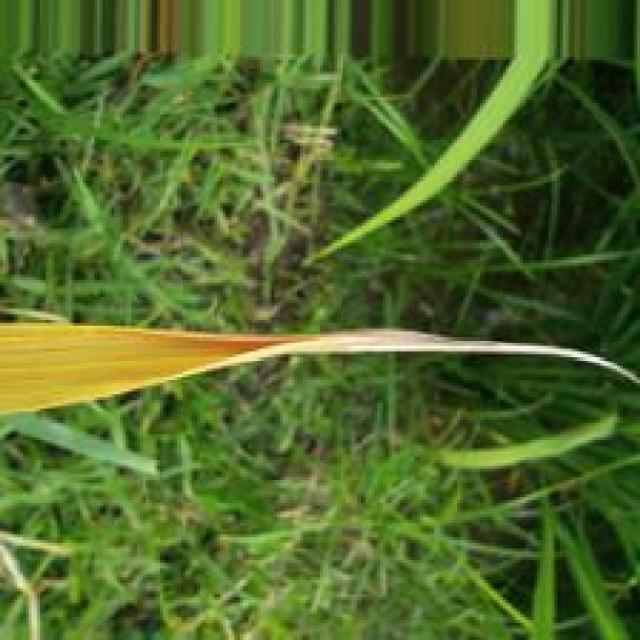Leaf_Scald: (0, 321, 640, 421)
